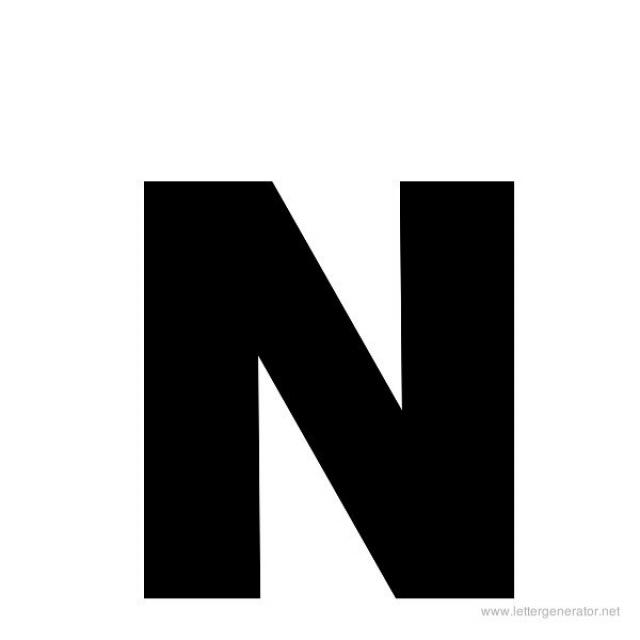N: (84, 131, 580, 621)
